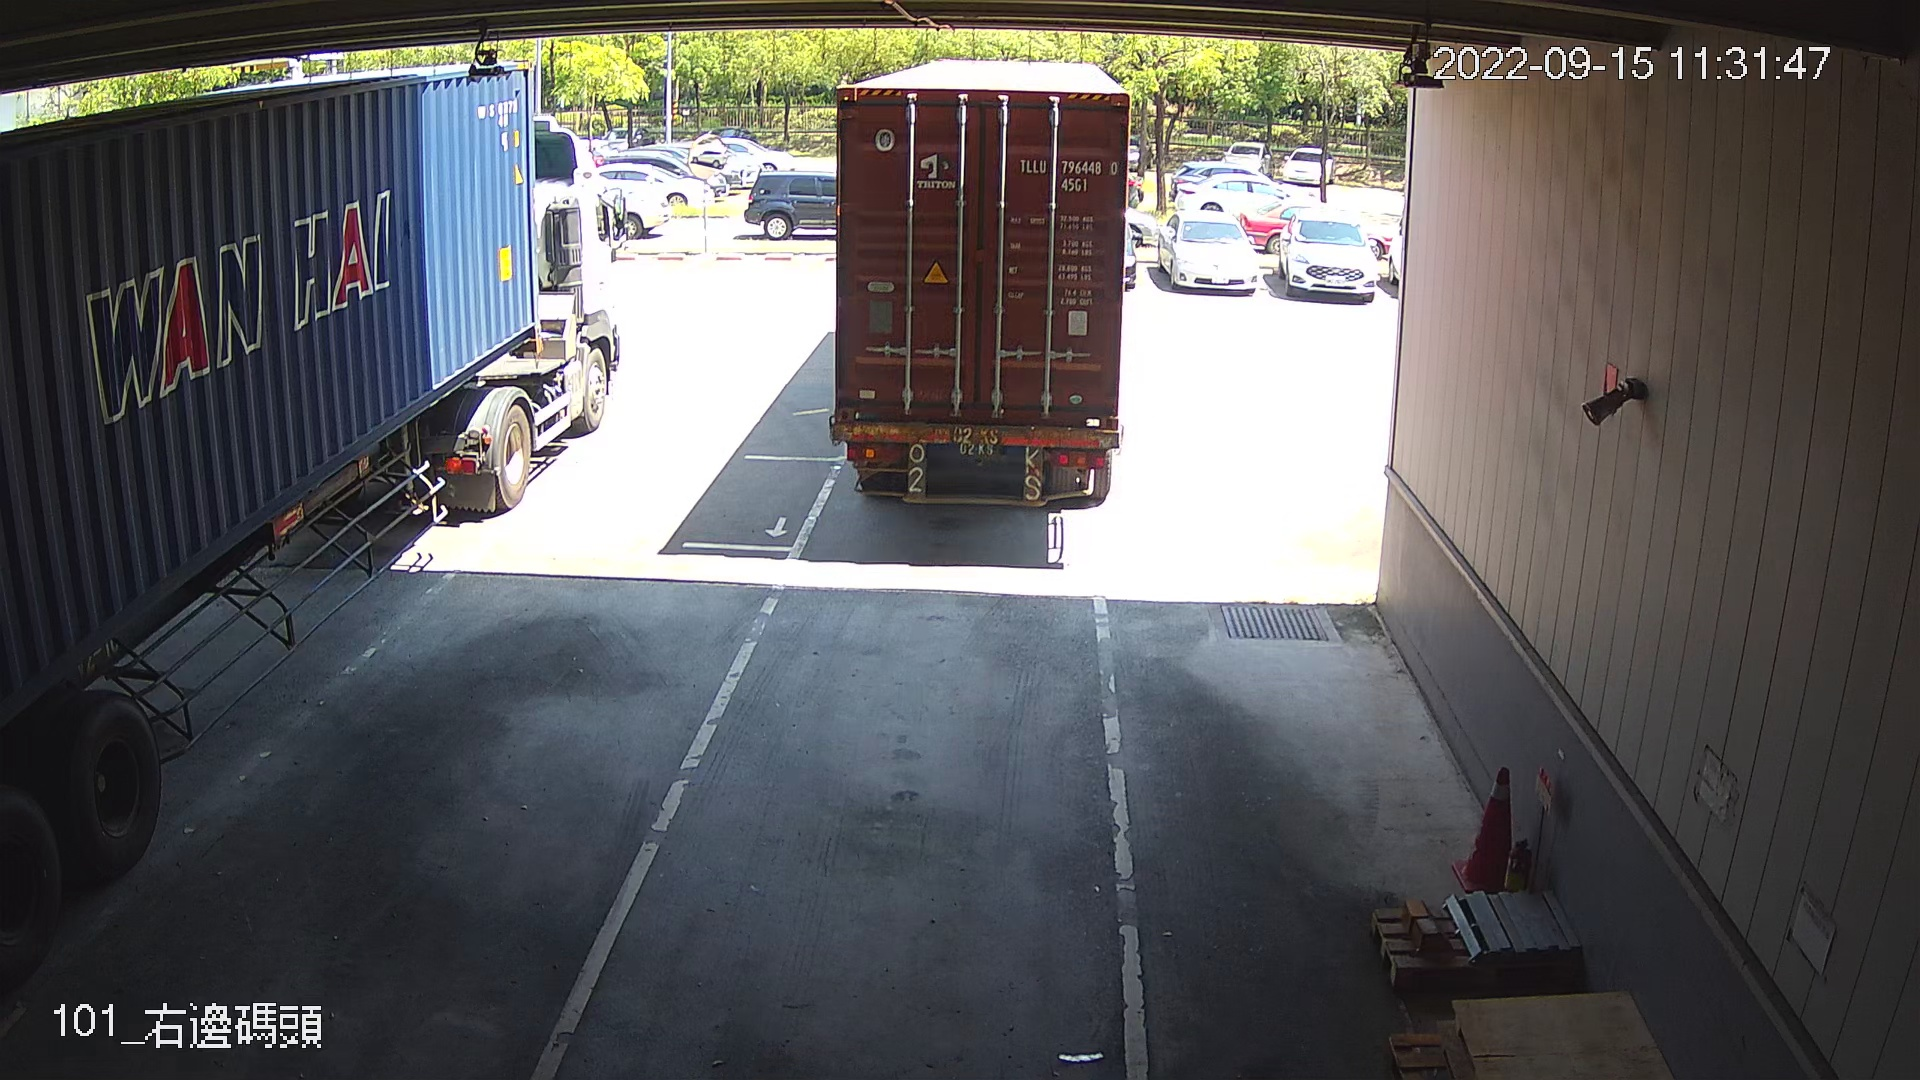container: (1013, 152, 1122, 195)
